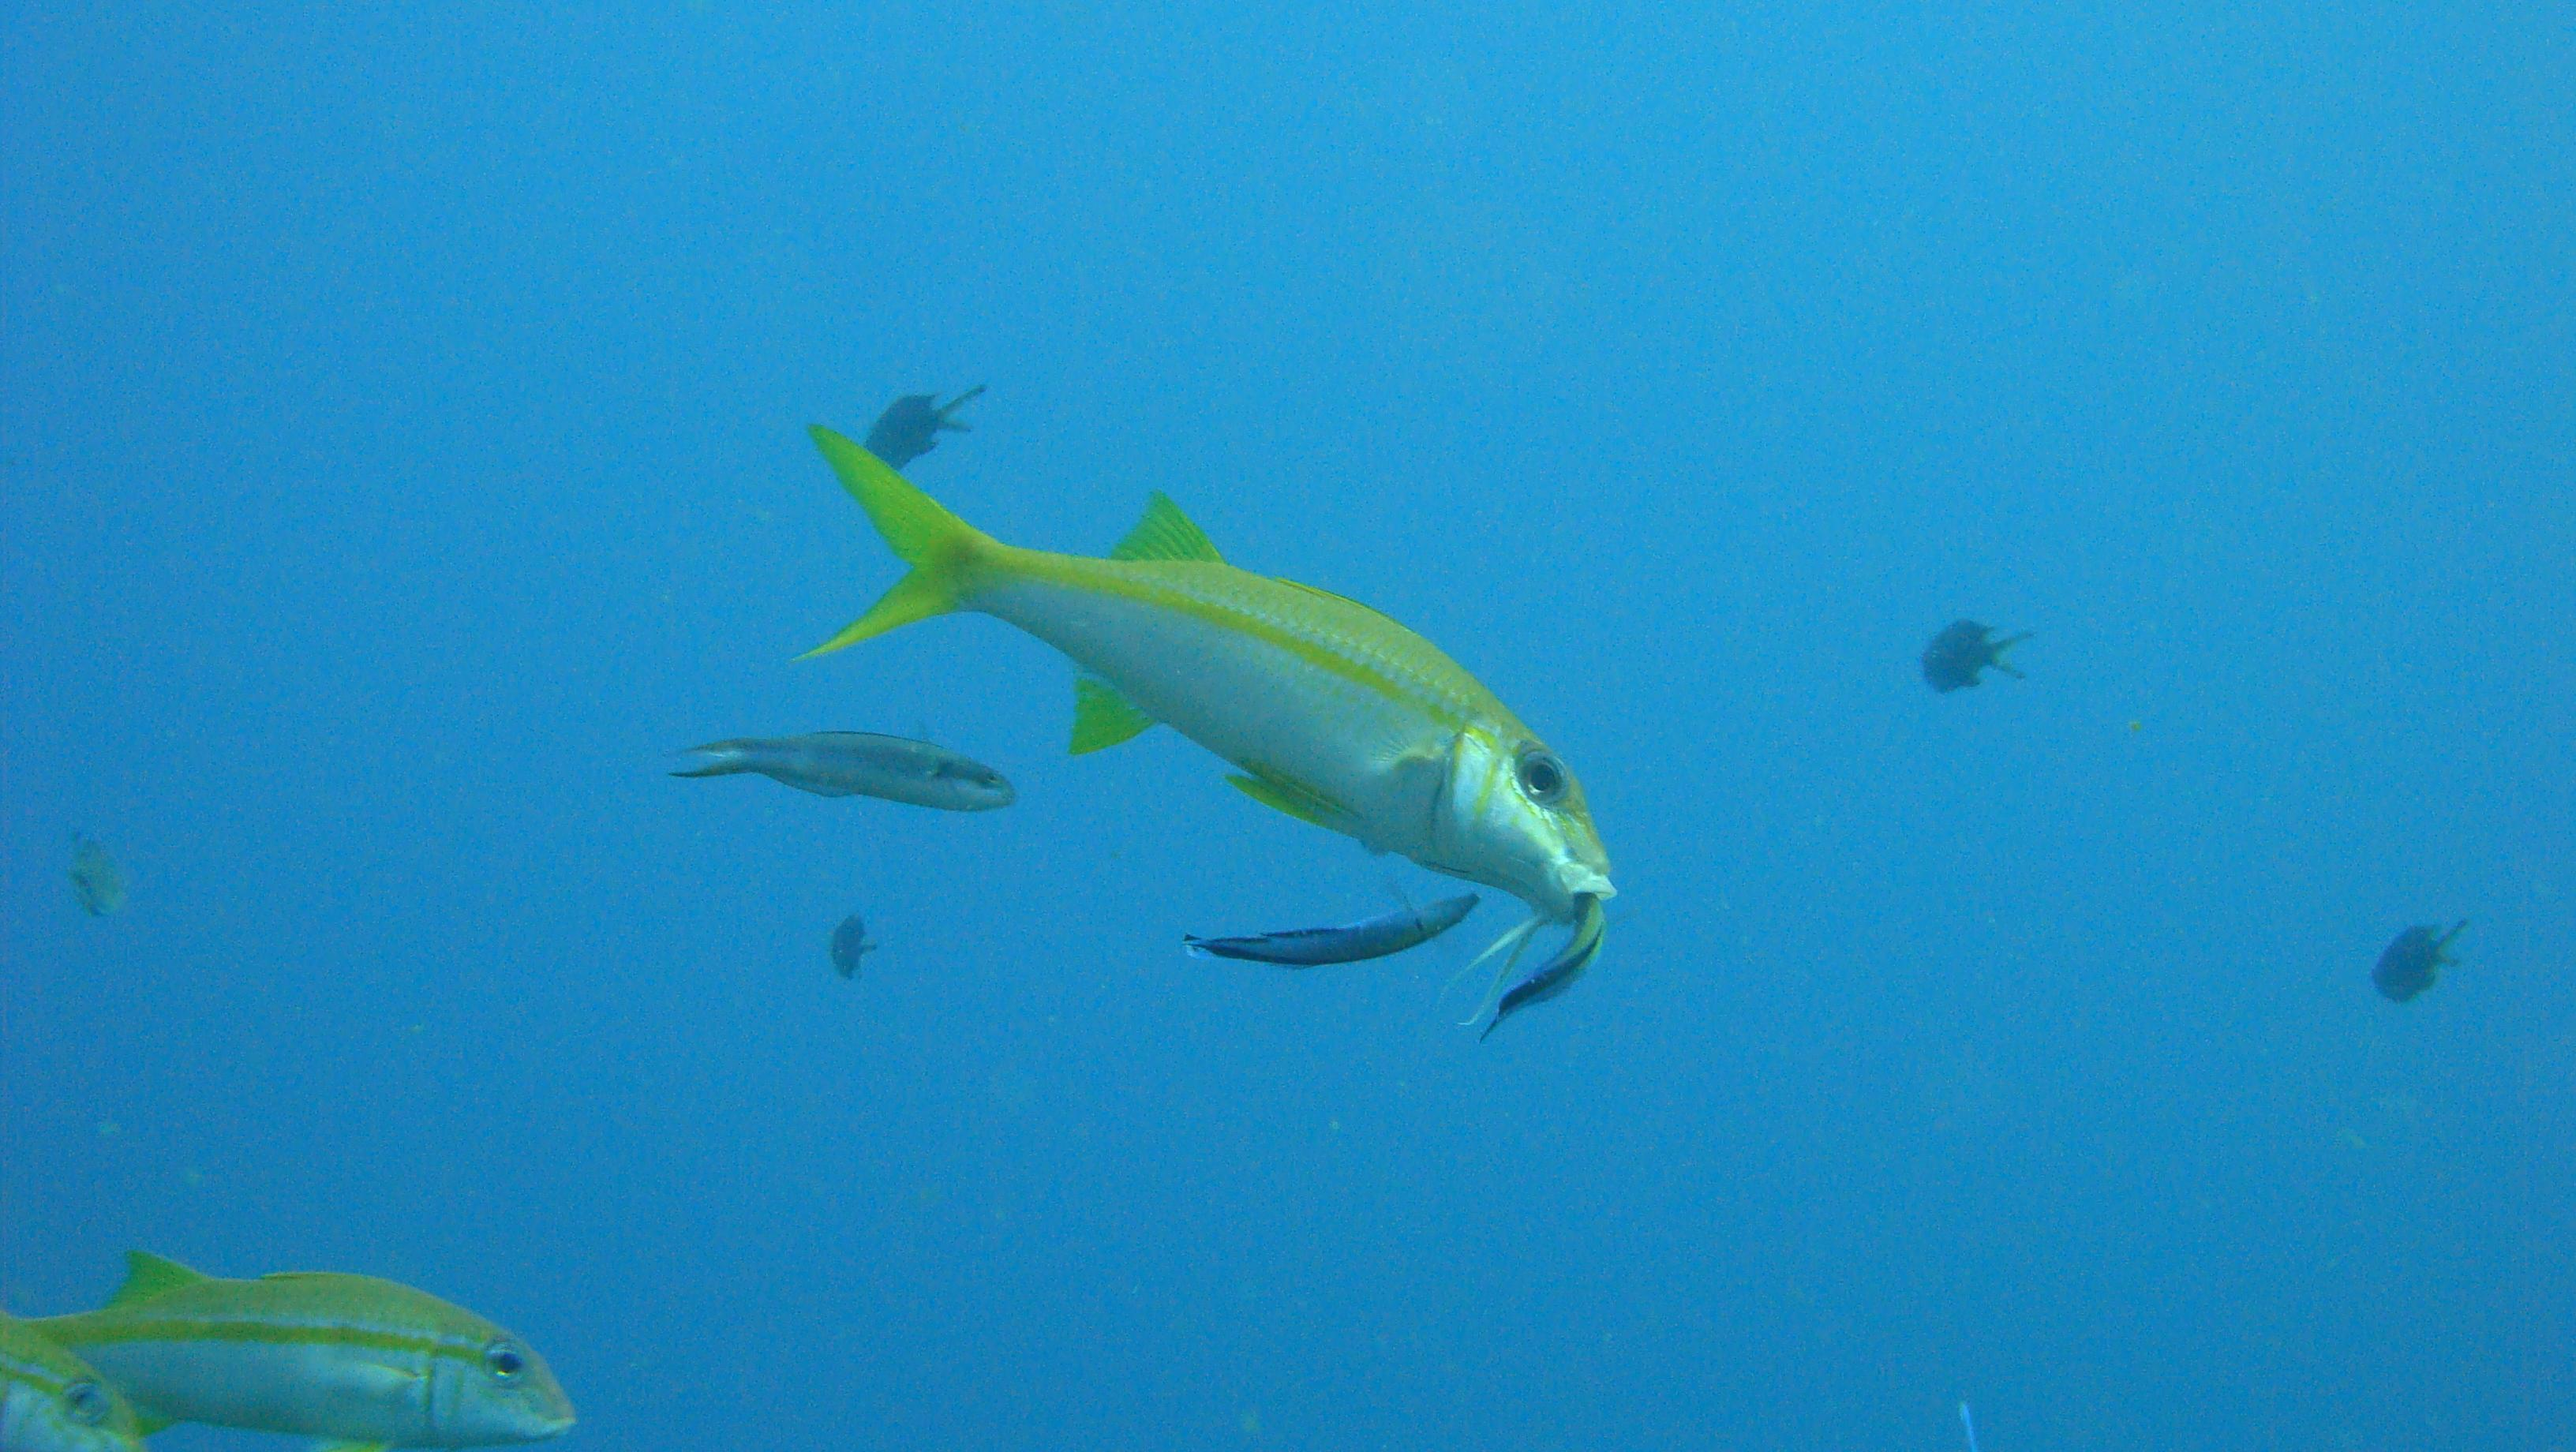Fish: (773, 409, 1640, 1043), (0, 1252, 637, 1452)
